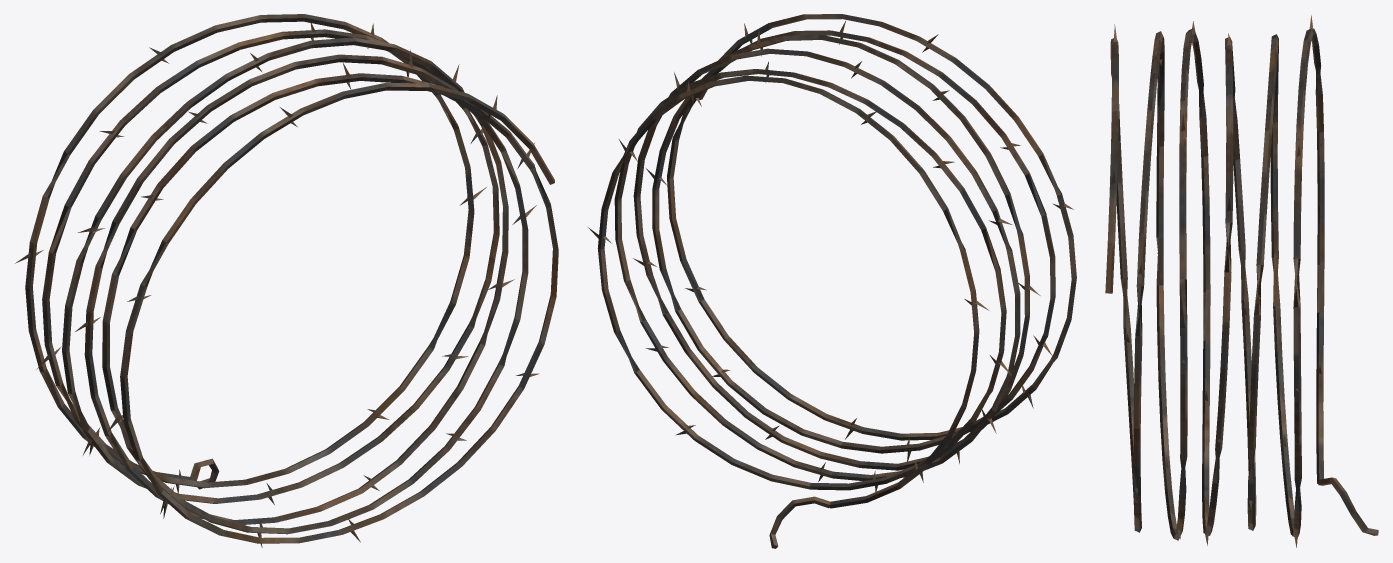
The model's file is D28_barbed_wire_roll.glb.
The picture shows the model from 3 angles, left to right: view 1: azimuth 30°, elevation 25°; view 2: azimuth 150°, elevation 25°; view 3: azimuth 270°, elevation 25°; orthographic projection. The views are drawn at different scales.
Visible parts, largest first — view 1: Barbed_wire_roll; view 2: Barbed_wire_roll; view 3: Barbed_wire_roll.
Part boxes in pixels (<box>): Barbed_wire_roll: <box>15,14,558,547</box>; Barbed_wire_roll: <box>588,14,1076,548</box>; Barbed_wire_roll: <box>1105,15,1378,547</box>.
Size of the model in its own units: 0.7724 by 0.8 by 0.3981.
Materials: 2 (2 with a texture image).
